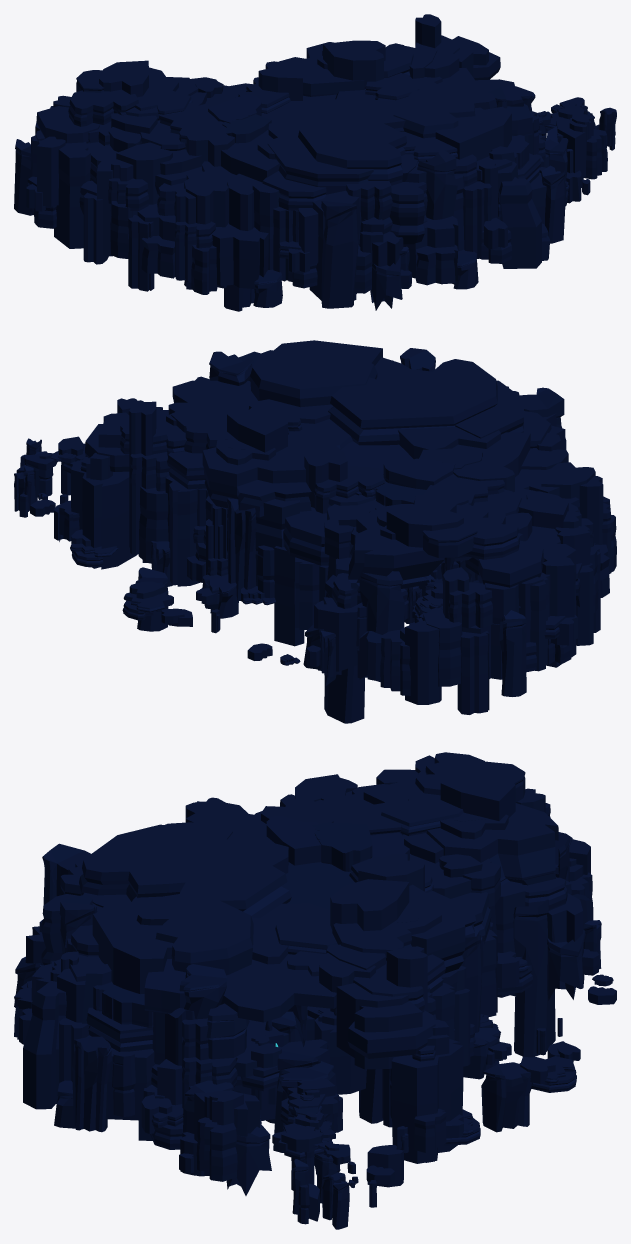
File: RockModule.fbx
The picture shows the model from 3 angles, top to bottom: view 1: azimuth 30°, elevation 25°; view 2: azimuth 150°, elevation 25°; view 3: azimuth 270°, elevation 25°; orthographic projection. The views are drawn at different scales.
Visible parts, largest first — view 1: RockModule1, RockModule2, RockModule4, RockModule3; view 2: RockModule1, RockModule2, RockModule4, RockModule3; view 3: RockModule2, RockModule1, RockModule4.
Boxes of the visible parts, x1,y1,x2,y2 form: RockModule1: [14, 14, 607, 310]; RockModule2: [68, 35, 535, 210]; RockModule4: [537, 97, 616, 150]; RockModule3: [90, 180, 254, 311]; RockModule1: [59, 348, 616, 723]; RockModule2: [80, 340, 568, 591]; RockModule4: [14, 436, 85, 540]; RockModule3: [404, 560, 482, 625]; RockModule2: [70, 752, 558, 1069]; RockModule1: [14, 755, 616, 1195]; RockModule4: [233, 1006, 403, 1229].
Size of the model in its own units: 77.81 by 25.9 by 57.41.
